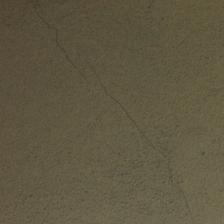Crack: (16, 26, 88, 176), (23, 41, 63, 150)
